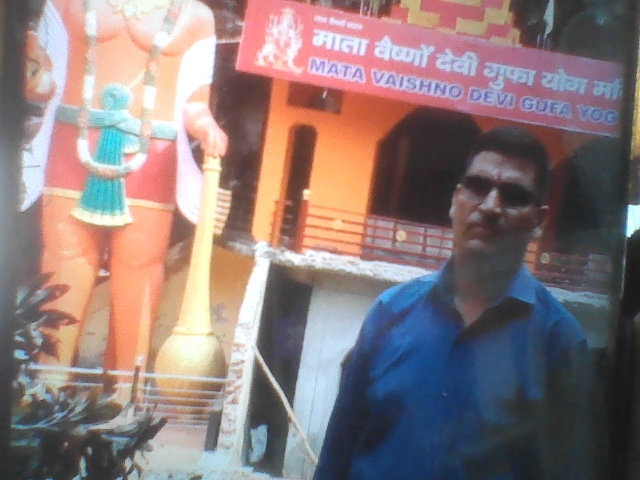fake: (435, 113, 553, 281)
